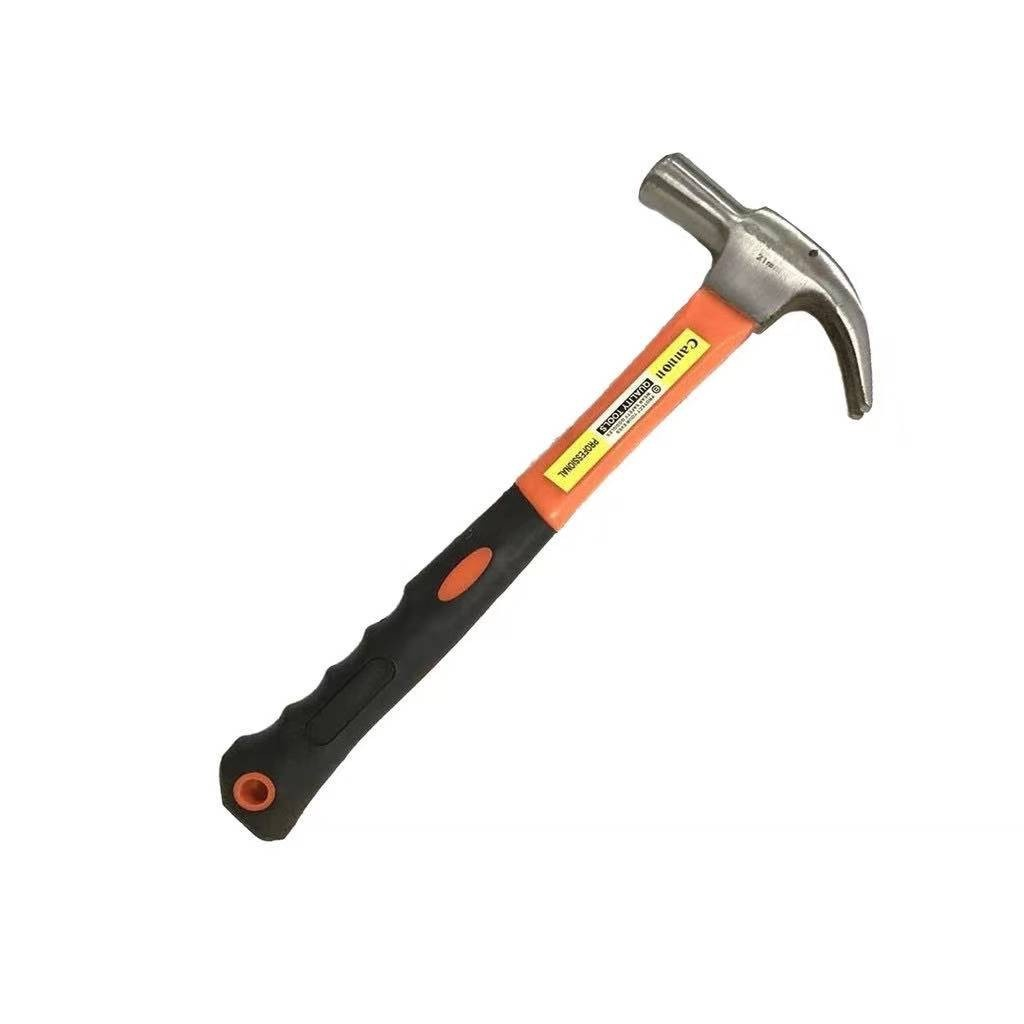hammer: (216, 151, 875, 845)
